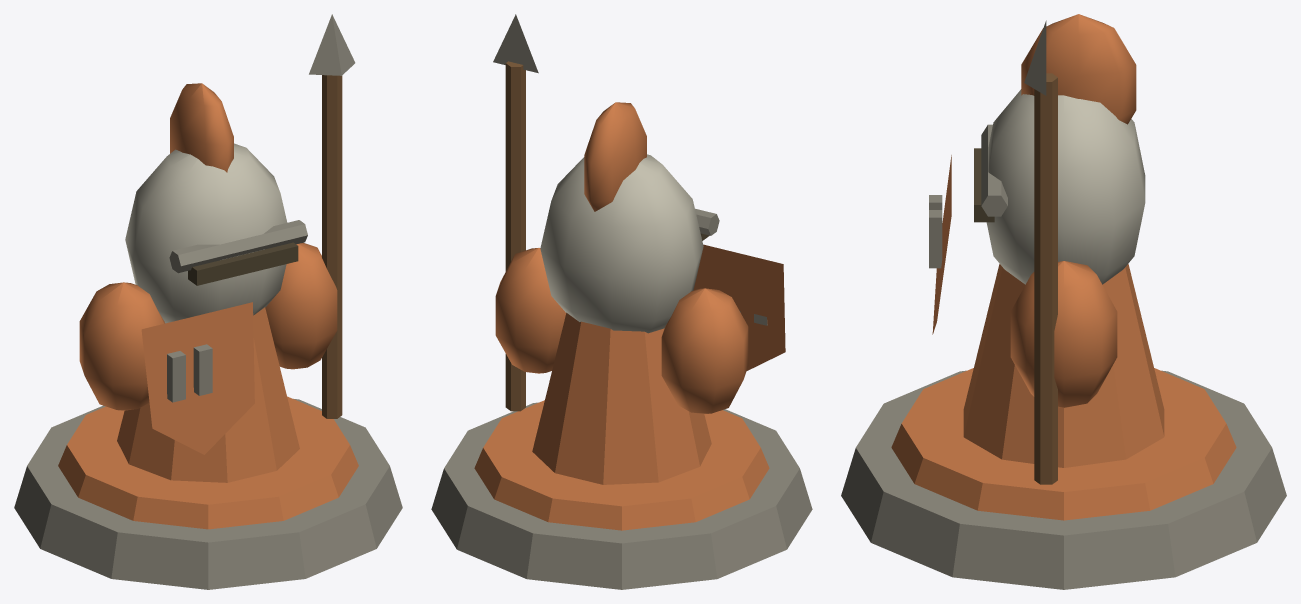
File: knight-2-0.glb
3 views of the same model, side by side, from view 1: azimuth 30°, elevation 25°; view 2: azimuth 150°, elevation 25°; view 3: azimuth 270°, elevation 25° (orthographic). The views are drawn at different scales.
Visible parts, largest first — view 1: knight-2-0.001, knight-2-0, knight-2-0.002, knight-2-0.004, knight-2-0.003; view 2: knight-2-0.001, knight-2-0, knight-2-0.002, knight-2-0.004; view 3: knight-2-0.001, knight-2-0, knight-2-0.002, knight-2-0.004, knight-2-0.003.
Part boxes in pixels (x1,y1,x2,y2): knight-2-0.001: [58, 83, 358, 529]; knight-2-0: [14, 14, 402, 589]; knight-2-0.002: [125, 143, 287, 323]; knight-2-0.004: [322, 75, 342, 418]; knight-2-0.003: [188, 242, 298, 285]; knight-2-0.001: [474, 102, 785, 530]; knight-2-0: [431, 14, 812, 589]; knight-2-0.002: [540, 154, 703, 333]; knight-2-0.004: [505, 61, 525, 411]; knight-2-0.001: [891, 14, 1236, 520]; knight-2-0: [841, 20, 1286, 589]; knight-2-0.002: [986, 89, 1145, 284]; knight-2-0.004: [1034, 73, 1057, 484]; knight-2-0.003: [974, 148, 994, 222].
Bounding box in the file's own units: 0.302 × 0.404 × 0.302.
